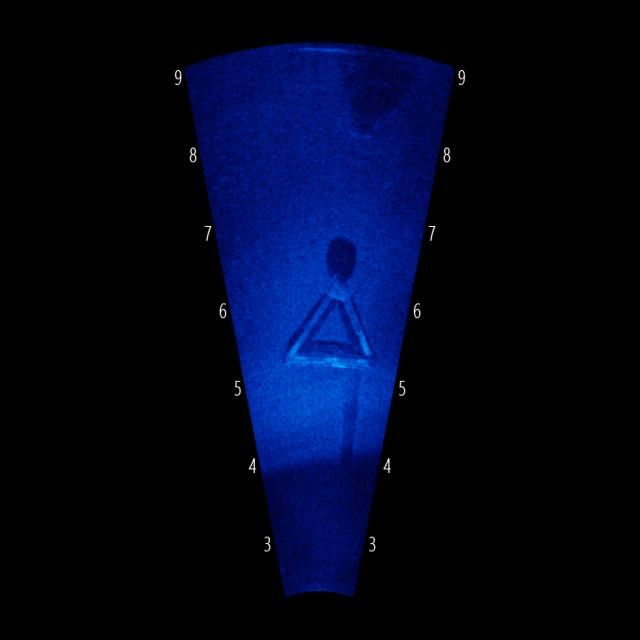triangle: (271, 256, 391, 388)
